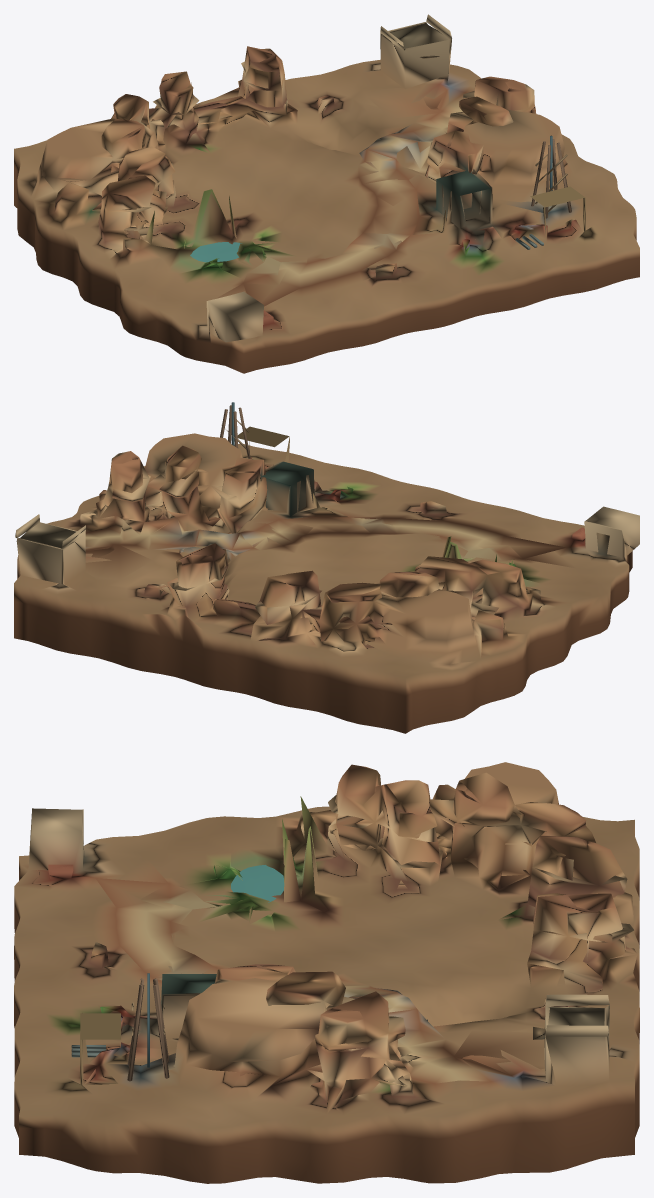
Rendered from sahrun.far.glb.
3 views of the same model, one above another, from view 1: azimuth 30°, elevation 25°; view 2: azimuth 150°, elevation 25°; view 3: azimuth 270°, elevation 25° (orthographic). The views are drawn at different scales.
Parts seen in each view (by area): view 1: Static terrain and architecture • material batches; view 2: Static terrain and architecture • material batches; view 3: Static terrain and architecture • material batches.
Boxes of the visible parts, x1=… form: Static terrain and architecture • material batches: x1=14, y1=14, x2=639, y2=373; Static terrain and architecture • material batches: x1=14, y1=402, x2=639, y2=733; Static terrain and architecture • material batches: x1=14, y1=762, x2=639, y2=1183.
Bounding box in the file's own units: 24 × 5.45 × 20.
